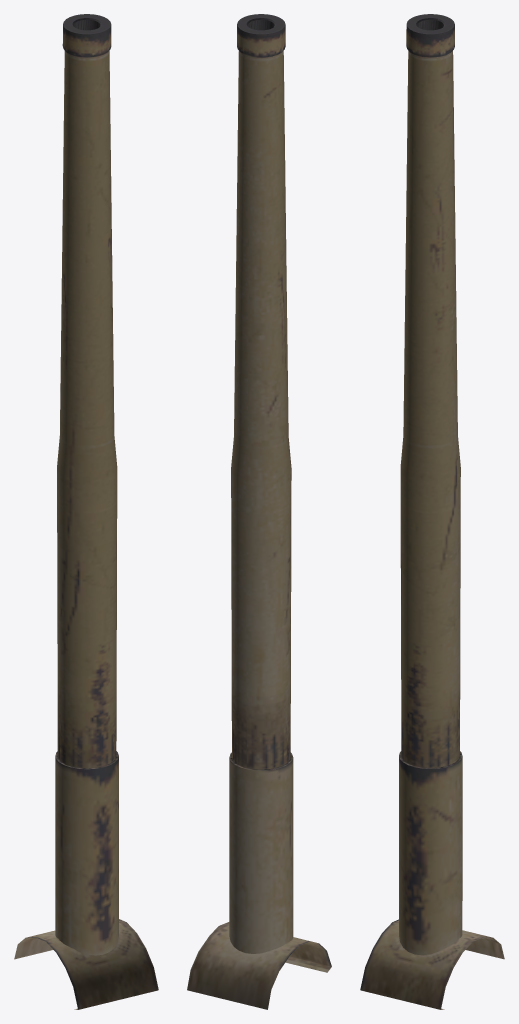
File: Gun_01.glb
3 views of the same model, side by side, from view 1: azimuth 30°, elevation 25°; view 2: azimuth 150°, elevation 25°; view 3: azimuth 330°, elevation 25° (orthographic).
Parts seen in each view (by area): view 1: set_0_group_0; view 2: set_0_group_0; view 3: set_0_group_0.
Boxes of the visible parts, x1,y1,x2,y2 form: set_0_group_0: (14,14,158,1009); set_0_group_0: (187,14,331,1009); set_0_group_0: (360,14,504,1009).
Size of the model in its own units: 0.3178 by 3.6 by 0.4364.
1 material, 1 textured.
